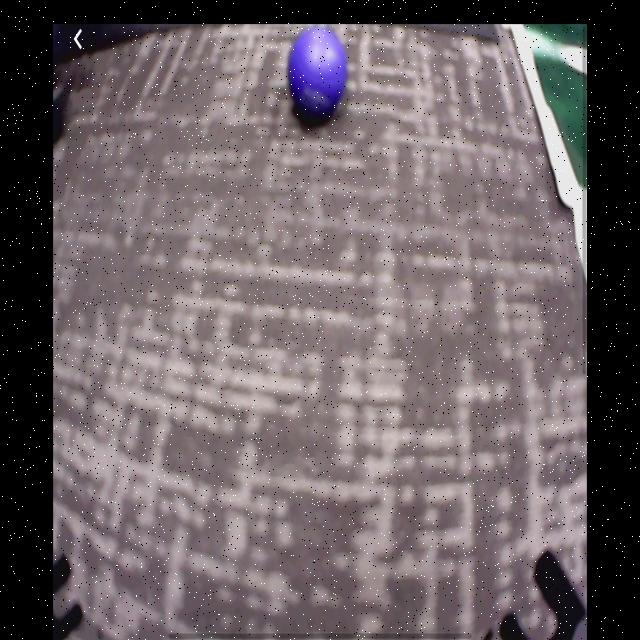ball: (288, 27, 349, 119)
